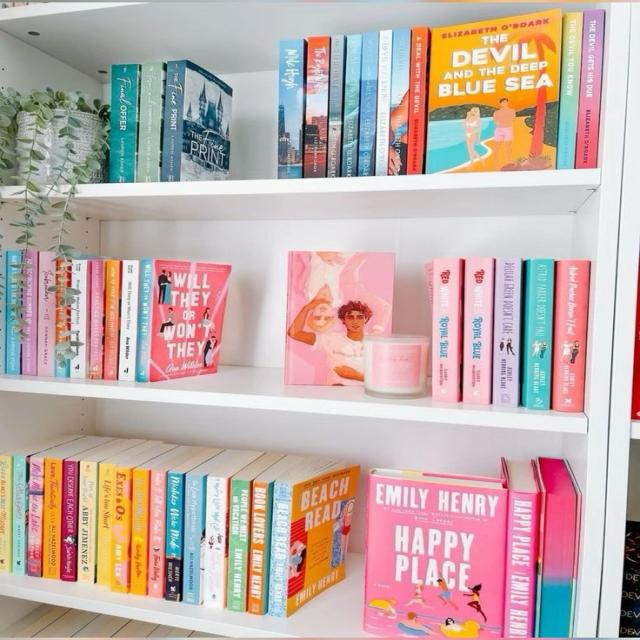book: (552, 261, 590, 412), (504, 491, 540, 639), (463, 258, 494, 406), (492, 257, 521, 407), (431, 259, 460, 403), (578, 11, 604, 168), (527, 259, 554, 410), (557, 12, 583, 168), (304, 36, 330, 178), (278, 38, 304, 179), (387, 29, 411, 175), (109, 64, 138, 182), (268, 483, 293, 618), (136, 62, 164, 182), (160, 59, 186, 182), (203, 477, 227, 608), (407, 28, 428, 175), (341, 34, 362, 177), (358, 32, 378, 176), (247, 482, 268, 614), (182, 474, 203, 604), (135, 260, 156, 382), (327, 35, 345, 177), (42, 458, 63, 579), (37, 252, 57, 377), (111, 467, 131, 592), (118, 260, 138, 381), (131, 469, 150, 594), (165, 473, 183, 602), (96, 463, 115, 584), (376, 31, 392, 174), (78, 461, 96, 585), (69, 259, 87, 378), (6, 251, 23, 374), (62, 461, 79, 582), (149, 470, 165, 598), (28, 458, 45, 578), (21, 251, 37, 376), (104, 261, 120, 380), (89, 260, 103, 379), (55, 260, 68, 378), (0, 454, 13, 572), (12, 456, 25, 574)
